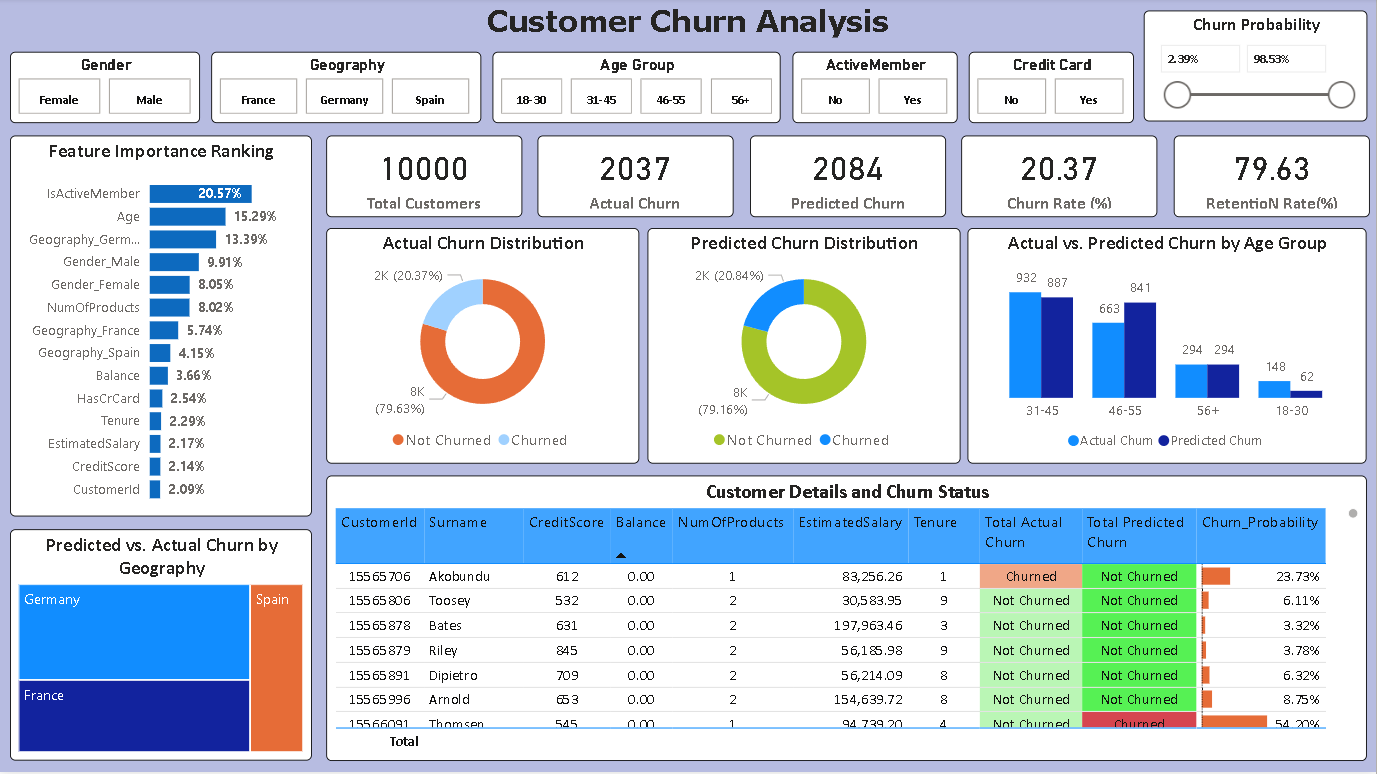

Layout of this report page (visuals, bound fields, positions):
{"tool":"powerbi","page":{"name":"Page 1","canvas":[1280,720],"ordinal":0},"visuals":[{"type":"card","fields":{"Values":["churn_prediction.Total Customers"]},"box":[303.5,128.1,182,76],"z":0},{"type":"card","fields":{"Values":["churn_prediction.Actual Churn"]},"box":[500.5,128.1,182,76],"z":1000},{"type":"card","fields":{"Values":["churn_prediction.Predicted Churn"]},"box":[697.6,128.1,182,76],"z":2000},{"type":"barChart","title":"Feature Importance Ranking","fields":{"Category":["feature_importance.Feature"],"Y":["feature_importance.Importance"]},"box":[9.8,127.9,280.4,354.2],"z":3000},{"type":"donutChart","title":"Actual Churn Distribution","fields":{"Y":["churn_prediction.Total Customers"],"Category":["churn_prediction.Total Actual Churn"]},"box":[303.6,214.4,291,219],"z":4000},{"type":"donutChart","title":"Predicted Churn Distribution","fields":{"Category":["churn_prediction.Total Predicted Churn"],"Y":["churn_prediction.Total Customers"]},"box":[601.9,214.4,291,219],"z":5000},{"type":"tableEx","title":"Customer Details and Churn Status","fields":{"Values":["churn_prediction.CustomerId","churn_prediction.Surname","churn_prediction.CreditScore","churn_prediction.Balance","churn_prediction.NumOfProducts","churn_prediction.EstimatedSalary","churn_prediction.Tenure","churn_prediction.Total Actual Churn","churn_prediction.Total Predicted Churn","churn_prediction.Churn_Probability"]},"box":[303.8,444,967.9,265.6],"z":6000},{"type":"advancedSlicerVisual","fields":{"Values":["churn_prediction.Geography"]},"box":[197,49.4,250.9,66],"z":7000},{"type":"advancedSlicerVisual","fields":{"Values":["churn_prediction.Age Group"]},"box":[458.5,49.4,268.1,66],"z":8000},{"type":"advancedSlicerVisual","fields":{"Values":["churn_prediction.Gender"]},"box":[9.3,49.4,177.1,66],"z":9000},{"type":"advancedSlicerVisual","fields":{"Values":["churn_prediction.ActiveMember"]},"box":[737.2,49.4,153.7,66],"z":10000},{"type":"advancedSlicerVisual","fields":{"Values":["churn_prediction.Credit Card"]},"box":[901.5,49.4,153.7,66],"z":11000},{"type":"clusteredColumnChart","title":"Actual vs. Predicted Churn by Age Group","fields":{"Category":["churn_prediction.Age Group"],"Y":["churn_prediction.Actual Churn","churn_prediction.Predicted Churn"]},"box":[900.2,213.8,371.4,219],"z":13000},{"type":"treemap","title":"Predicted vs. Actual Churn by Geography","fields":{"Group":["churn_prediction.Geography"],"Values":["churn_prediction.Predicted Churn"]},"box":[9.8,494.4,280.4,215.2],"z":14000},{"type":"card","fields":{"Values":["churn_prediction.Churn Rate (%)"]},"box":[894.7,128.1,182,76],"z":15000},{"type":"textbox","box":[9.8,0,1261.8,41.8],"z":15500},{"type":"card","fields":{"Values":["churn_prediction.RetentionRate(%)"]},"box":[1091.8,128.1,182,76],"z":16000},{"type":"slicer","title":"Churn Probability","fields":{"Values":["churn_prediction.Churn_Probability"]},"box":[1063.8,11.1,207.8,103.3],"z":16500}]}

Visuals, with their boxes in screenshot pixels (x1, y1, x2, y2), scaled from the page's 1280x720 canvas onto the 1377x774 screenshot:
card - churn_prediction.Total Customers: (326, 138, 522, 219)
card - churn_prediction.Actual Churn: (538, 138, 734, 219)
card - churn_prediction.Predicted Churn: (750, 138, 946, 219)
"Feature Importance Ranking" barChart: (11, 137, 312, 518)
"Actual Churn Distribution" donutChart: (327, 230, 640, 466)
"Predicted Churn Distribution" donutChart: (648, 230, 961, 466)
"Customer Details and Churn Status" tableEx: (327, 477, 1368, 763)
advancedSlicerVisual - churn_prediction.Geography: (212, 53, 482, 124)
advancedSlicerVisual - churn_prediction.Age Group: (493, 53, 782, 124)
advancedSlicerVisual - churn_prediction.Gender: (10, 53, 201, 124)
advancedSlicerVisual - churn_prediction.ActiveMember: (793, 53, 958, 124)
advancedSlicerVisual - churn_prediction.Credit Card: (970, 53, 1135, 124)
"Actual vs. Predicted Churn by Age Group" clusteredColumnChart: (968, 230, 1368, 465)
"Predicted vs. Actual Churn by Geography" treemap: (11, 531, 312, 763)
card - churn_prediction.Churn Rate (%): (963, 138, 1158, 219)
textbox: (11, 0, 1368, 45)
card - churn_prediction.RetentionRate(%): (1175, 138, 1370, 219)
"Churn Probability" slicer: (1144, 12, 1368, 123)
